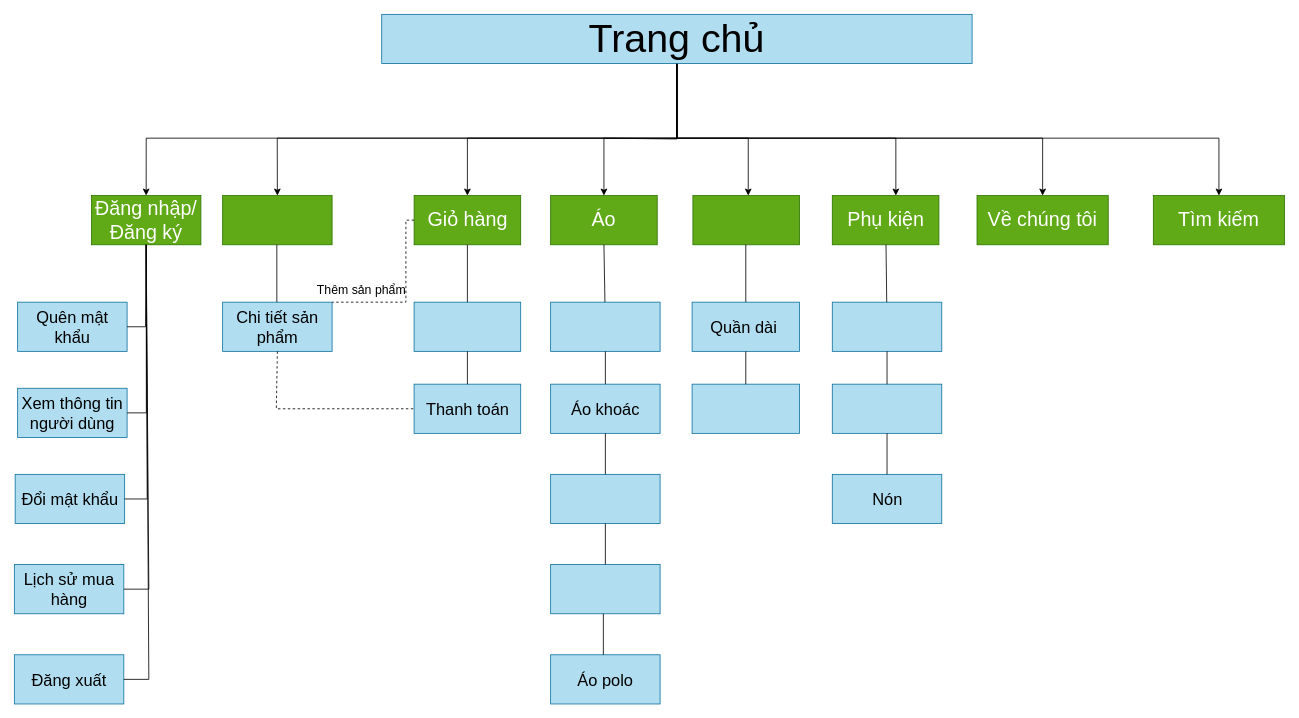
This 1299x718 diagram has some shape labels left out. The centre of each missing label's shape, as x and y in pixels:
Cặp/ túi xách: the point at 886,326
Danh sách sản phẩm: the point at 467,326
Quần: the point at 746,220
Quần short: the point at 745,408
Sweater: the point at 605,499
Tất cả sản phẩm: the point at 277,220
Ví: the point at 886,408
Áo sơ mi: the point at 605,589
Áo thun: the point at 605,326
